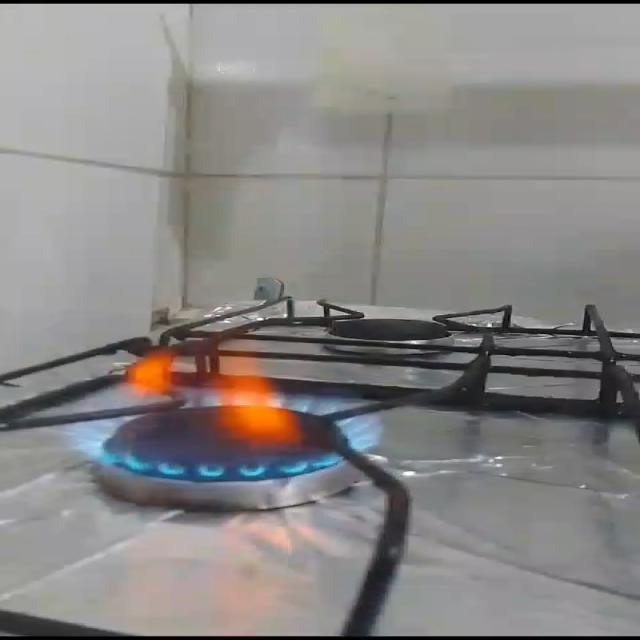fogo-ypXI: (62, 337, 390, 487)
